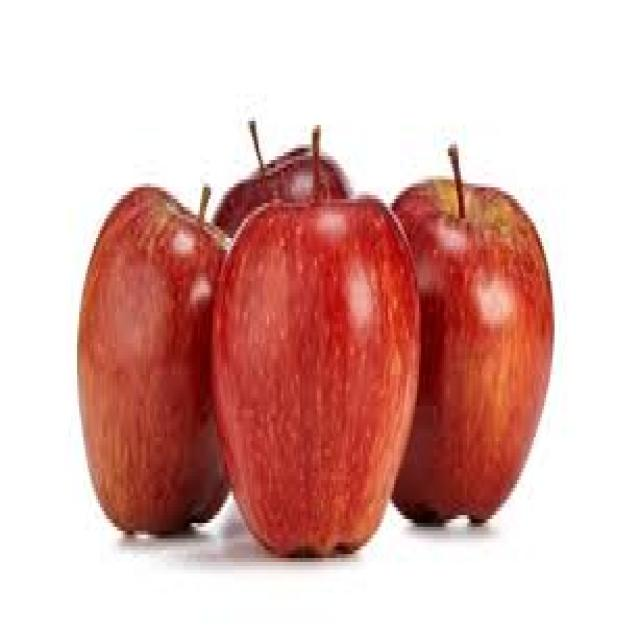apple: (214, 186, 422, 557)
